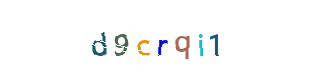1: (148, 0, 228, 80)
9: (102, 0, 182, 80)
C: (104, 0, 184, 80)
D: (98, 0, 178, 80)
I: (139, 0, 219, 80)
Q: (121, 0, 201, 80)
R: (117, 0, 197, 80)
